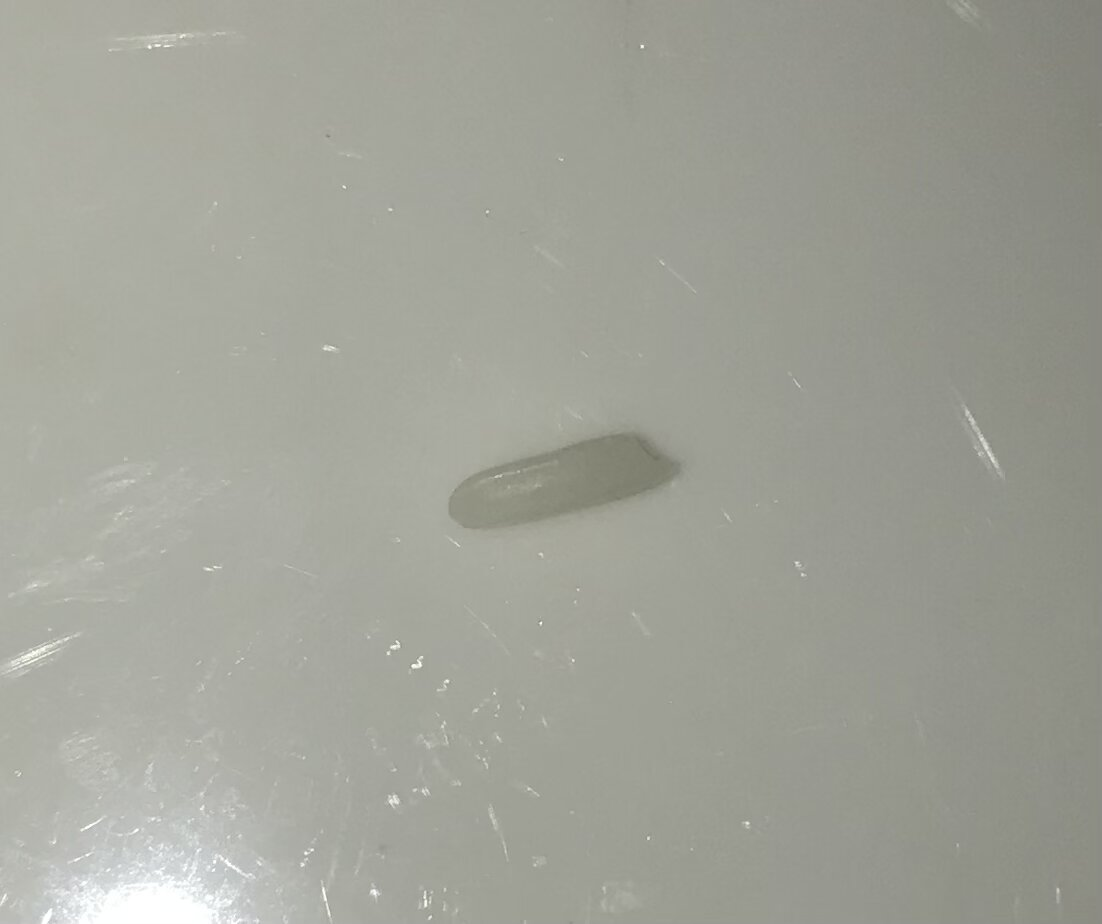Gao Lai Sua: (448, 428, 687, 530)
